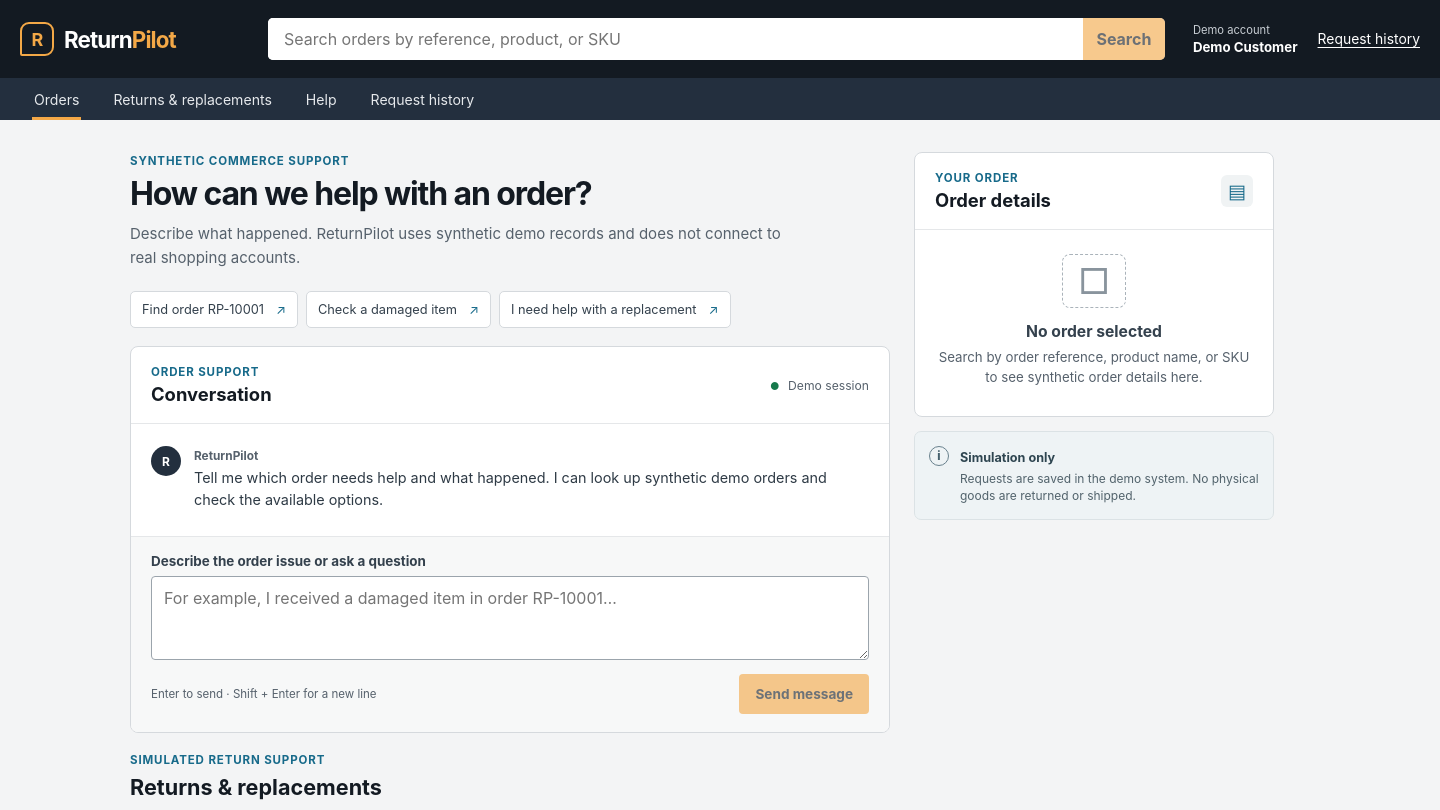
customer workspace › uses authenticated order search and details for a unique header search result
Expected: the text "Demo Customer" is shown, [1193,39,1298,55]
Type "RP-10001" into the field labelled "Search orders by reference, product, or SKU" at (675, 39), box [268,18,1083,60]
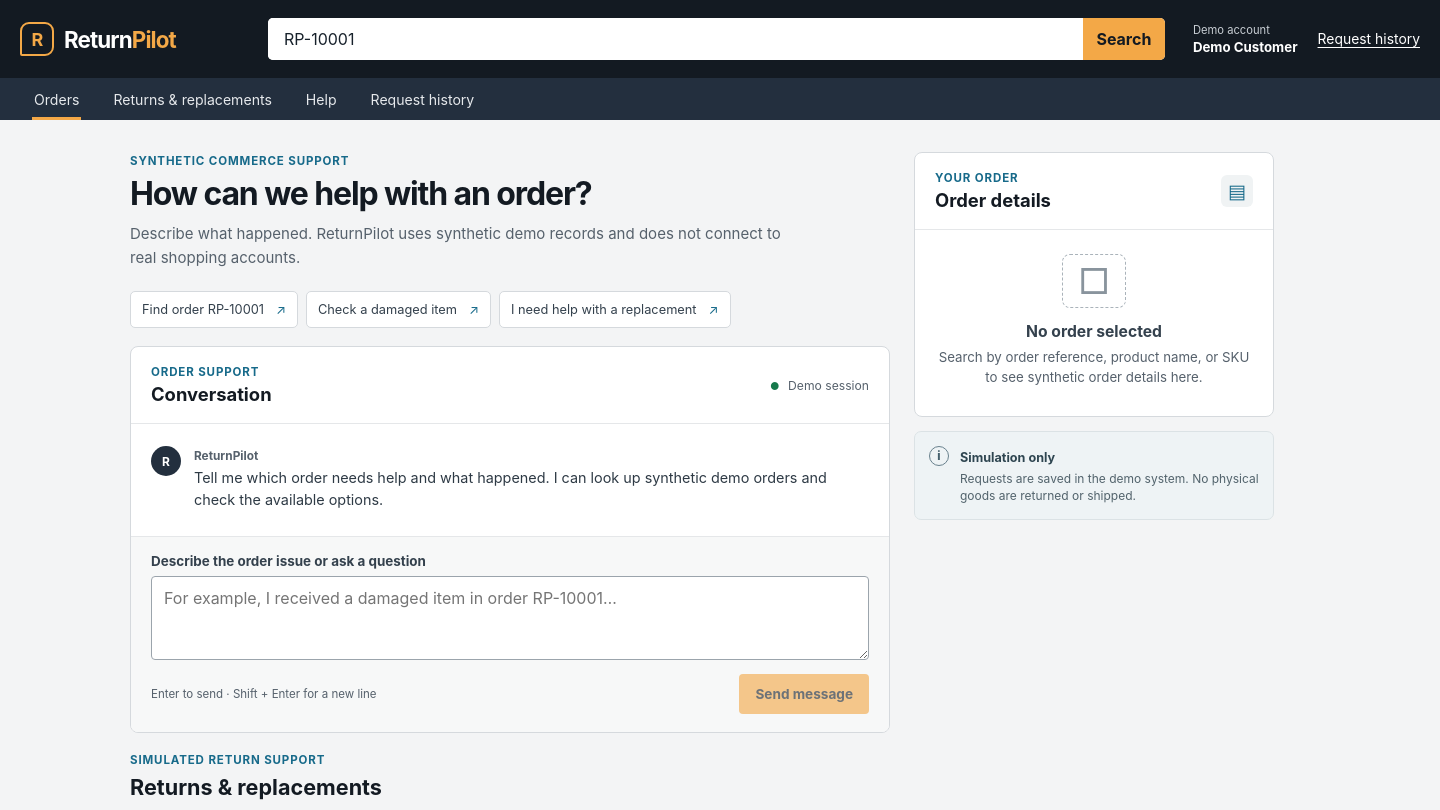
Click the button with aria-label "Search orders" at (1124, 39), box [1083,18,1165,60]
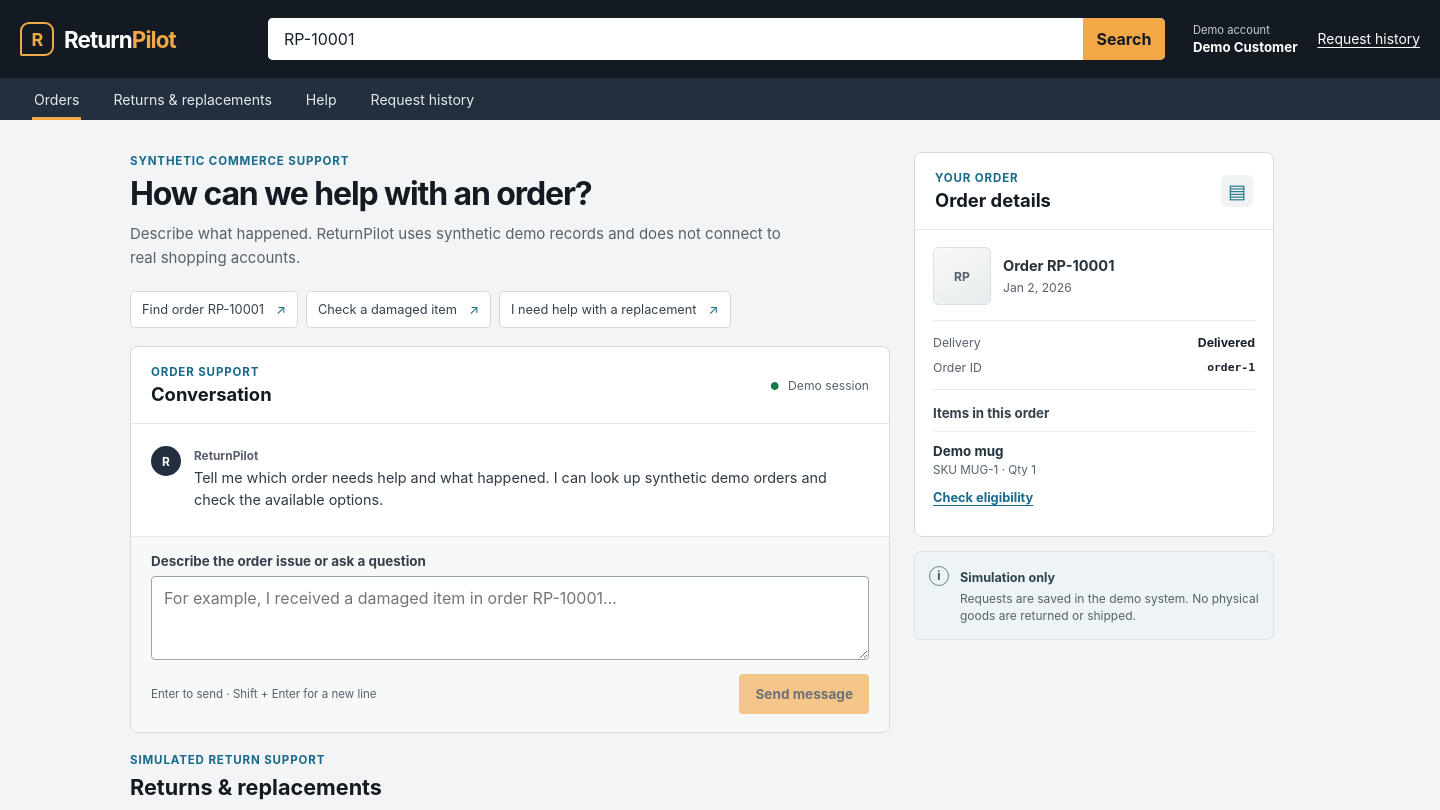
Expected: the text "Demo mug" is shown, [933,443,1004,459]
